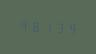eight: (30, 19, 41, 33)
four: (18, 18, 29, 33), (66, 20, 77, 35)
one: (42, 19, 53, 34)
three: (54, 20, 65, 34)
